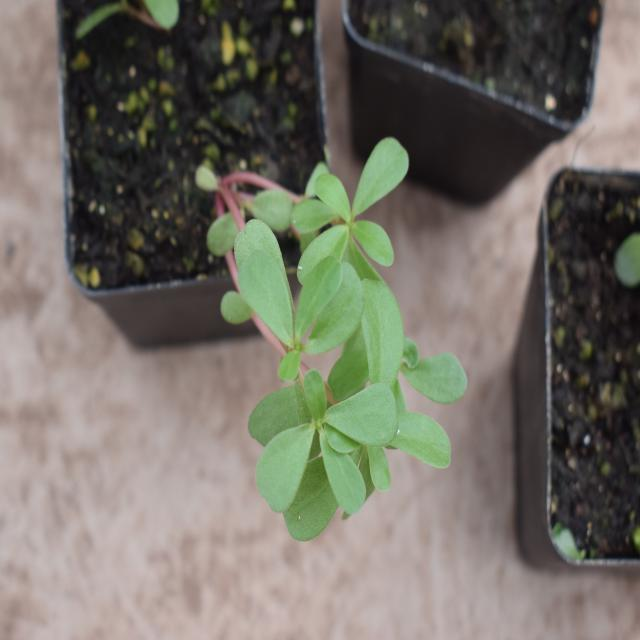purslane: (212, 144, 476, 552)
